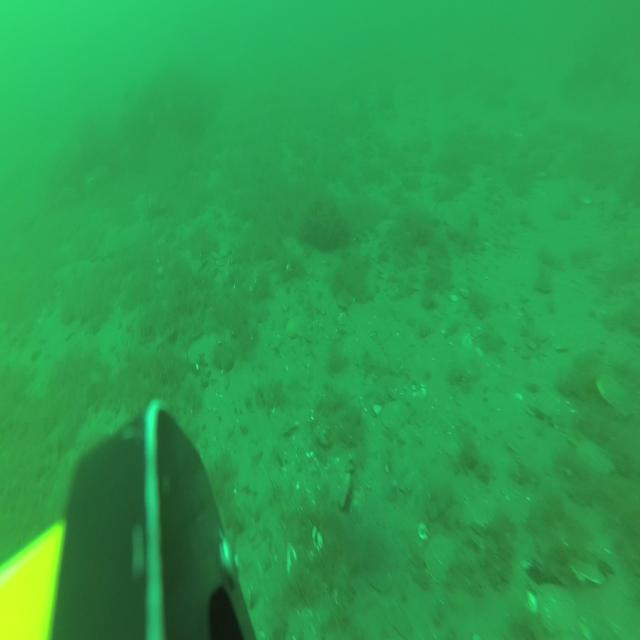scallop: (532, 579, 579, 640), (424, 532, 462, 588), (593, 370, 633, 420), (383, 393, 414, 436), (284, 316, 306, 341)
